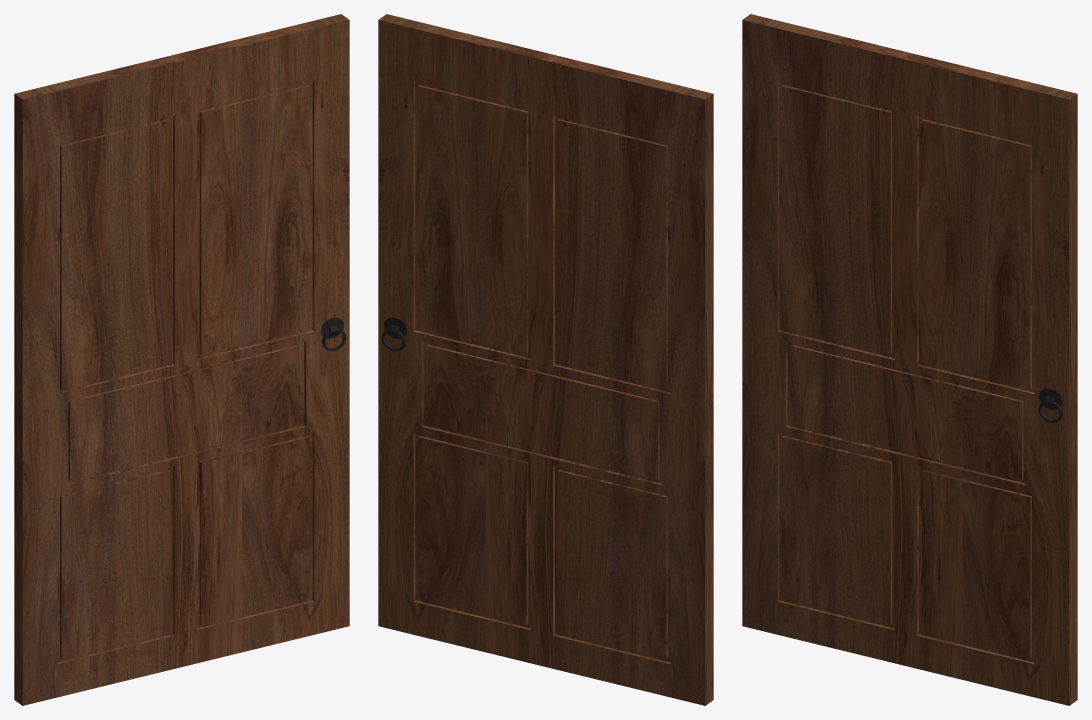
File: Pintu1.fbx
3 views of the same model, side by side, from view 1: azimuth 30°, elevation 25°; view 2: azimuth 150°, elevation 25°; view 3: azimuth 330°, elevation 25° (orthographic).
Visible parts, largest first — view 1: Rumah1.009; view 2: Rumah1.009; view 3: Rumah1.009.
Boxes of the visible parts, box(x1,y1,x2,y2) form: Rumah1.009: box(14, 14, 349, 705); Rumah1.009: box(378, 14, 713, 705); Rumah1.009: box(742, 14, 1077, 705).
Bounding box in the file's own units: 2.5 × 4.43 × 0.1808.
2 materials, 2 textured.
